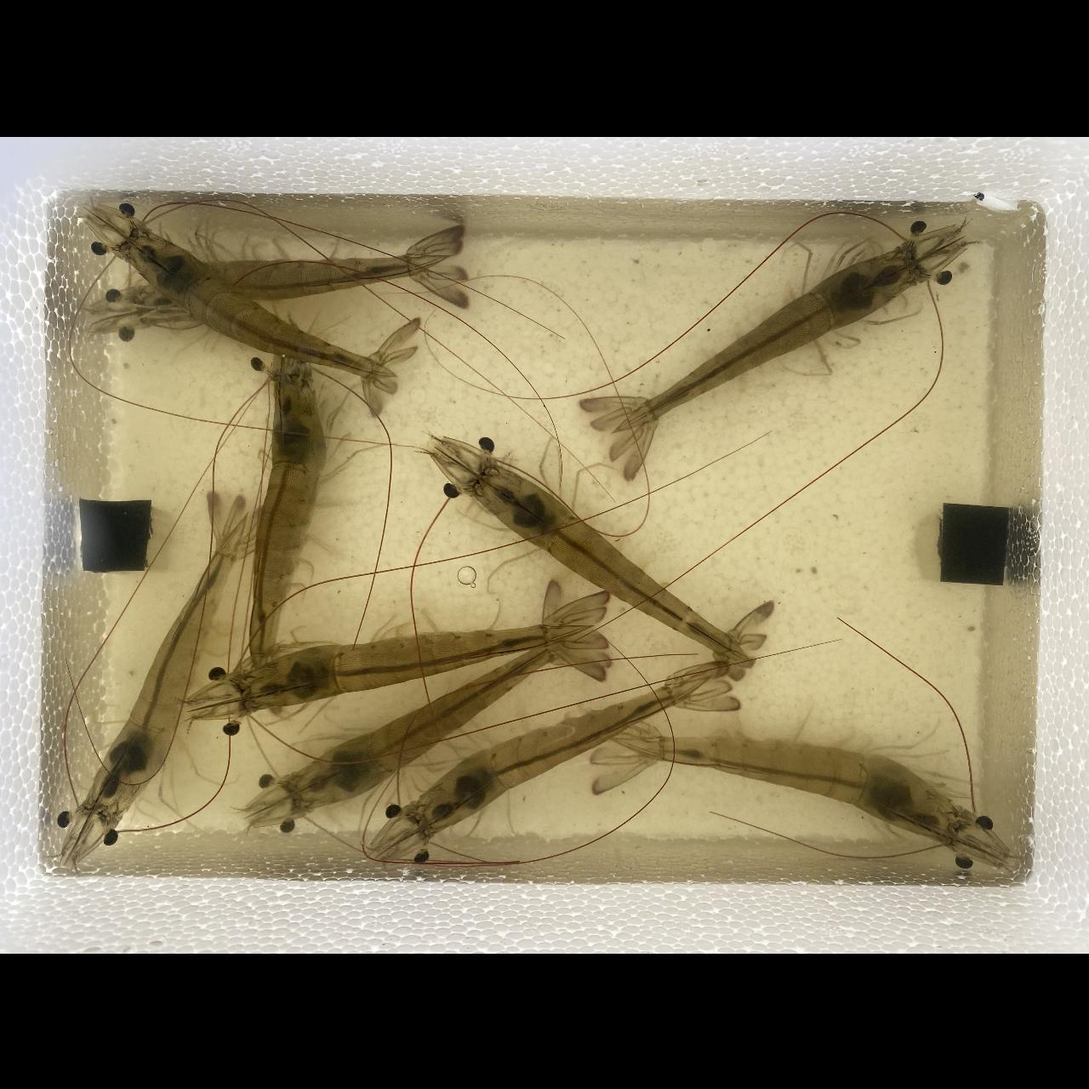box: (940, 503, 1010, 584), (79, 498, 152, 572)
top_shrimp: (615, 243, 918, 431), (477, 465, 749, 659), (288, 635, 581, 809), (90, 514, 247, 814), (420, 675, 710, 831), (128, 233, 396, 377), (608, 735, 962, 839), (243, 625, 594, 708), (250, 382, 326, 703), (139, 254, 450, 322)
